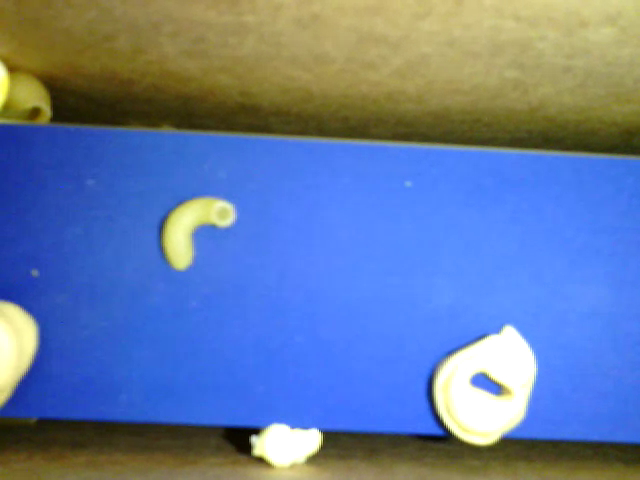elbow: (160, 198, 239, 272)
shell: (4, 68, 54, 121)
tortellini: (429, 321, 537, 448)
